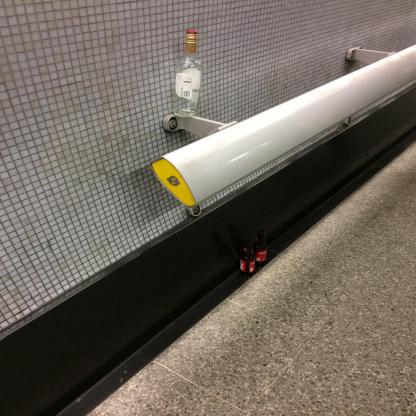cam: (171, 30, 203, 118), (240, 239, 256, 275), (254, 229, 268, 263)
